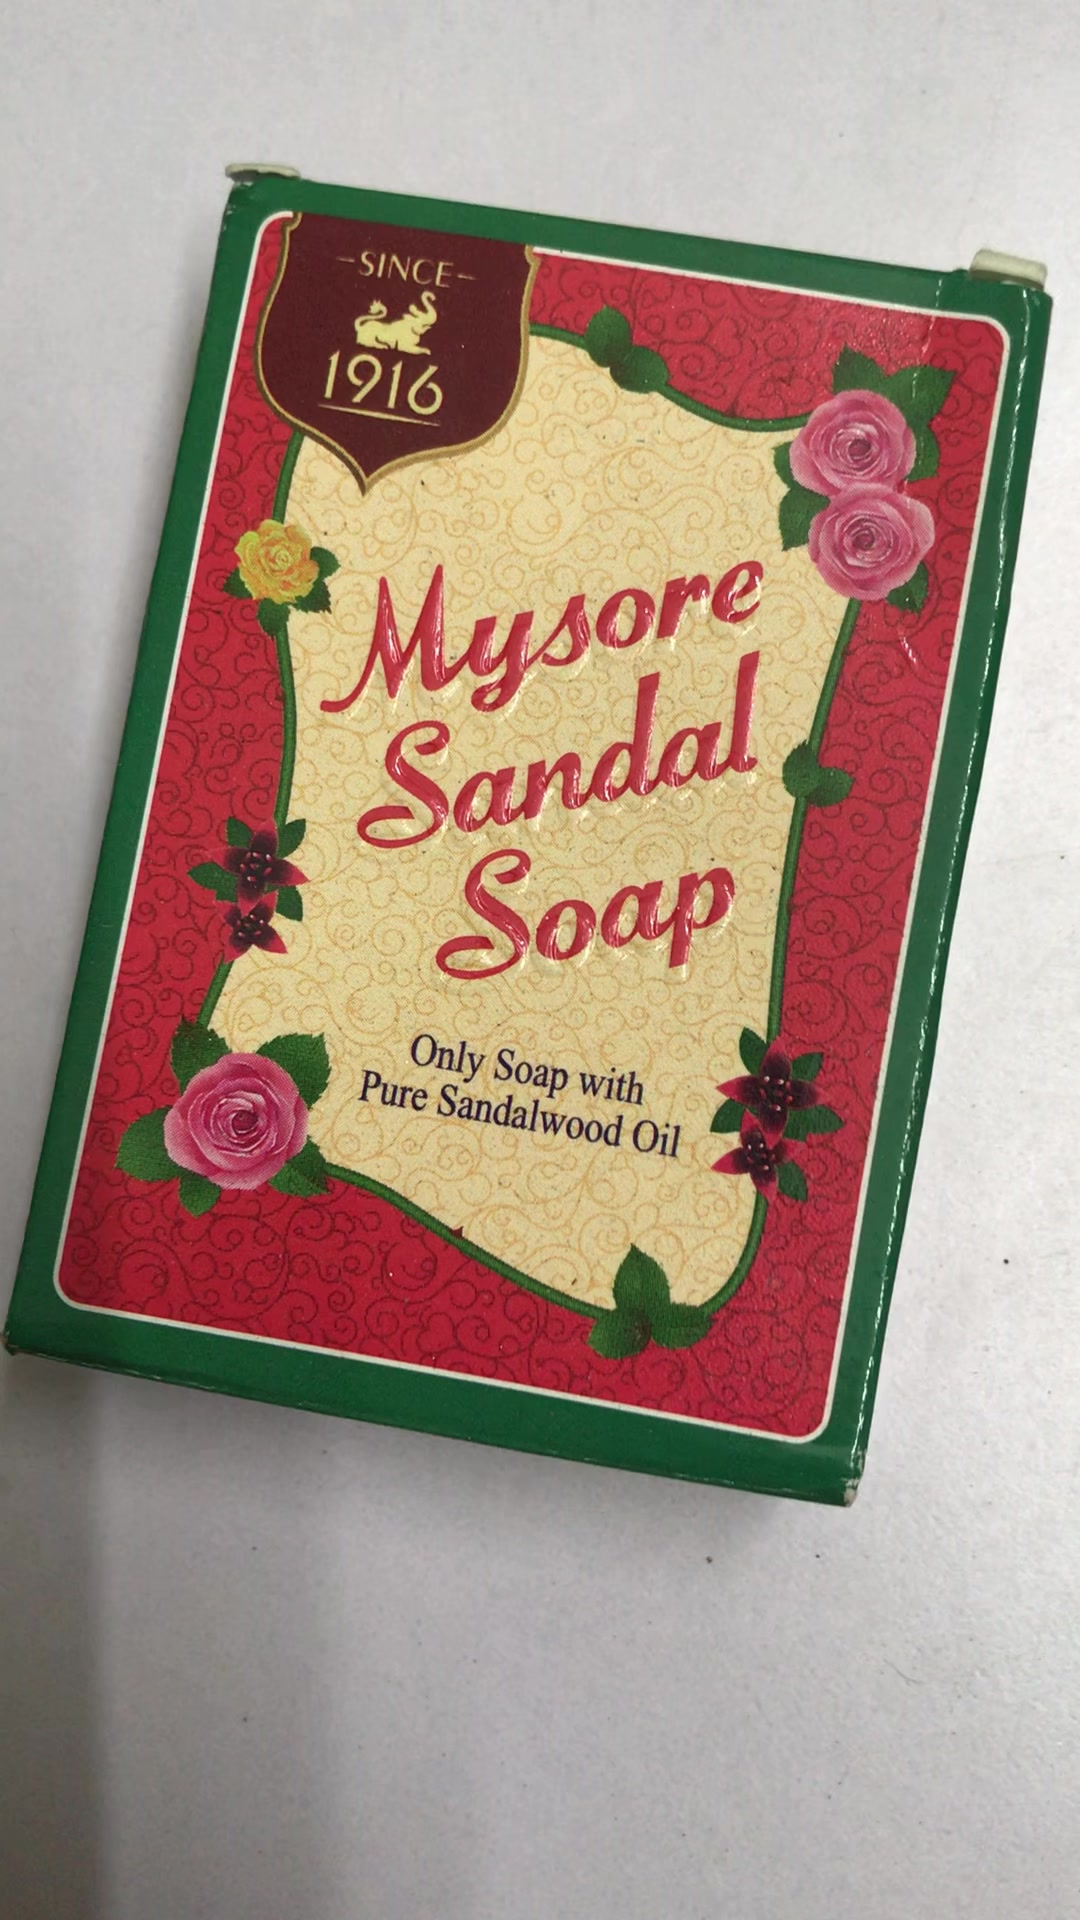mysore sandal soap: (1, 173, 1055, 1509)
